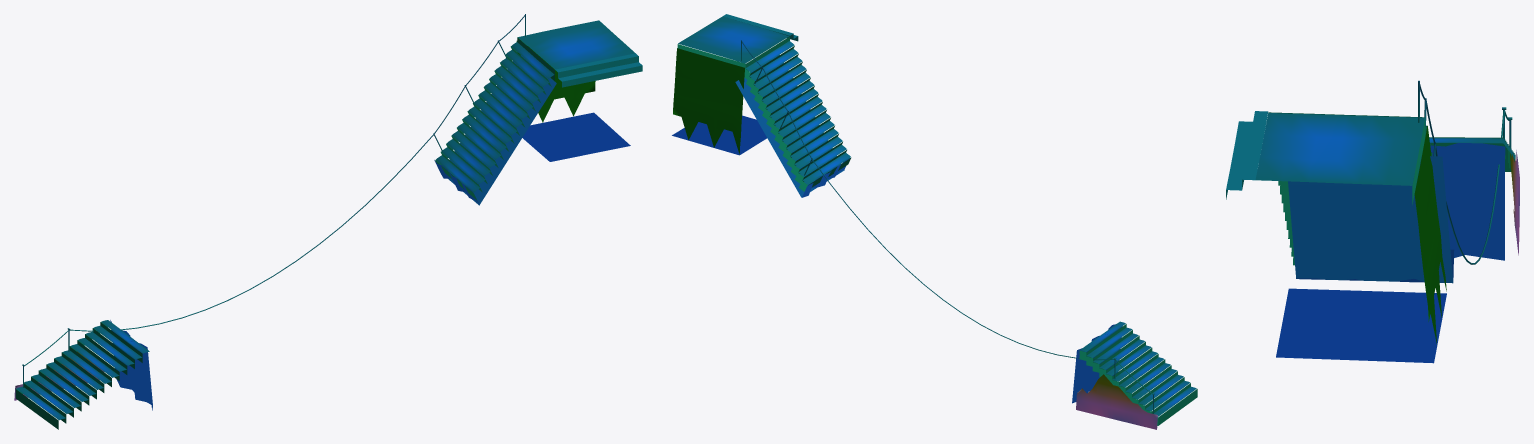
File: fisher_stair_broken.glb
3 renders of one model, left to right at view 1: azimuth 30°, elevation 25°; view 2: azimuth 150°, elevation 25°; view 3: azimuth 270°, elevation 25°, orthographic. The views are drawn at different scales.
Parts seen in each view (by area): view 1: fisher_stair_broken; view 2: fisher_stair_broken; view 3: fisher_stair_broken.
Part boxes in pixels (left/top/right/bottom): fisher_stair_broken: left=14, top=14, right=642, bottom=429; fisher_stair_broken: left=672, top=14, right=1197, bottom=429; fisher_stair_broken: left=1226, top=80, right=1519, bottom=363.
Size of what is drawn, in the model's own units: 26.04 by 12.93 by 6.54.
